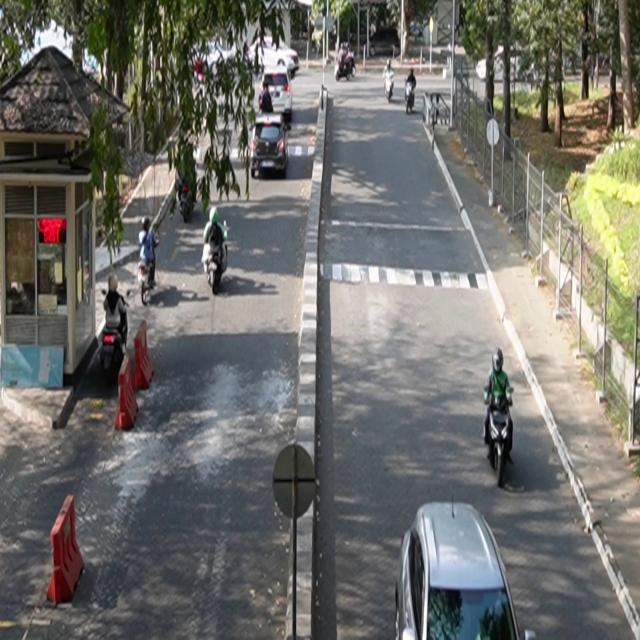car: (395, 500, 537, 640), (251, 113, 290, 179)
